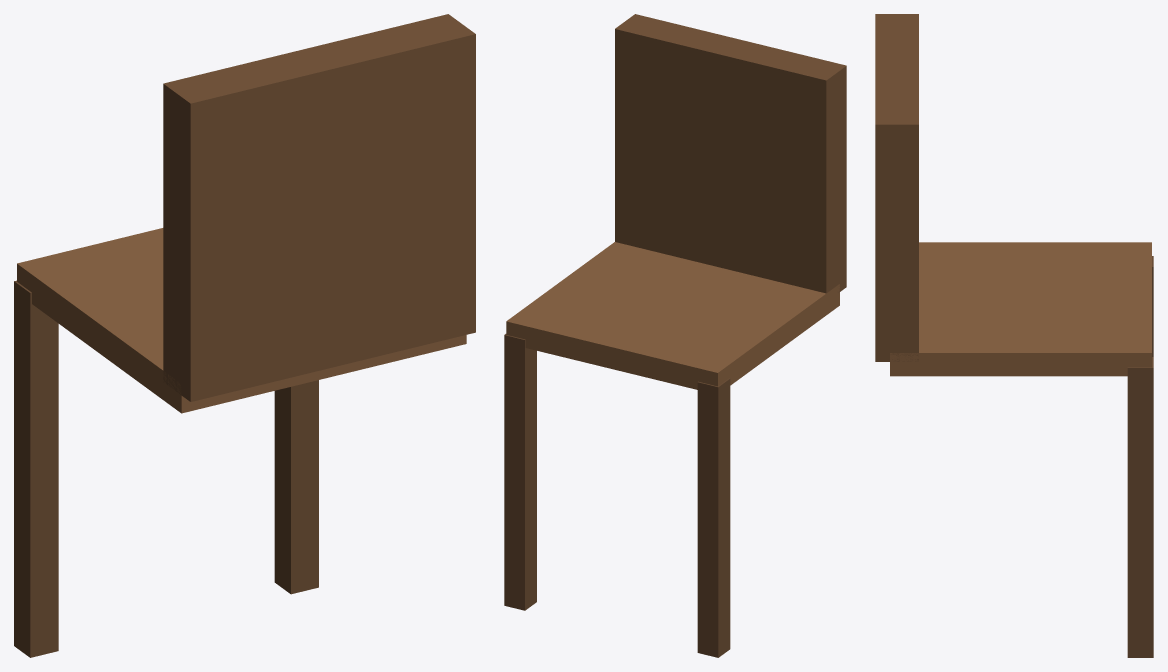
File: dining-chair.glb
3 views of the same model, side by side, from view 1: azimuth 30°, elevation 25°; view 2: azimuth 150°, elevation 25°; view 3: azimuth 270°, elevation 25° (orthographic). The views are drawn at different scales.
Bounding box in the file's own units: 41 × 90.9 × 43.
